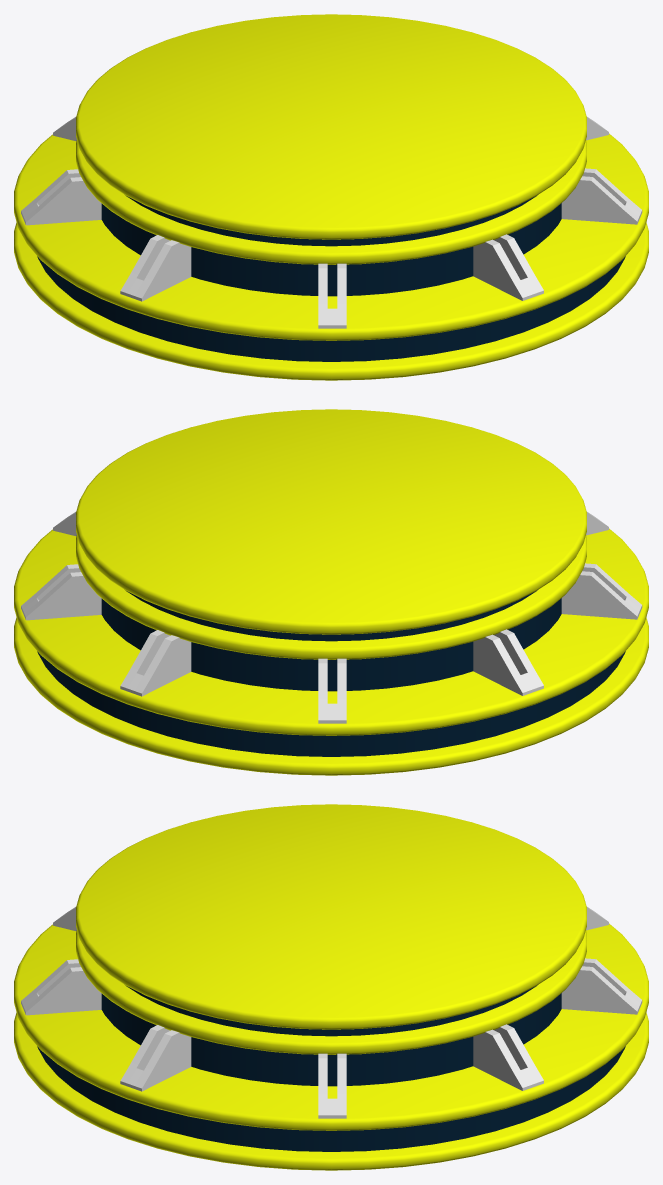
File: platform3.fbx
3 renders of one model, top to bottom at view 1: azimuth 30°, elevation 25°; view 2: azimuth 150°, elevation 25°; view 3: azimuth 270°, elevation 25°, orthographic.
Parts seen in each view (by area): view 1: Cylinder003, Cylinder015, Cylinder016, Cylinder017, Cylinder009, Cylinder014, Line019, Line017, Line016, Line020, Cylinder002, Line018; view 2: Cylinder003, Cylinder015, Cylinder016, Cylinder017, Cylinder009, Cylinder014, Line022, Line020, Line019, Line023, Cylinder002, Line021; view 3: Cylinder003, Cylinder015, Cylinder016, Cylinder017, Cylinder009, Cylinder014, Line016, Line023, Line017, Line022, Cylinder002, Line012.
Part boxes in pixels (x1,y1,x2,y2): Cylinder003: [76, 14, 586, 239]; Cylinder015: [14, 133, 648, 340]; Cylinder016: [14, 222, 648, 380]; Cylinder017: [37, 256, 625, 361]; Cylinder009: [76, 140, 586, 264]; Cylinder014: [101, 203, 561, 296]; Line019: [120, 235, 191, 301]; Line017: [473, 234, 543, 300]; Line016: [561, 168, 642, 224]; Line020: [21, 169, 101, 225]; Cylinder002: [125, 195, 537, 246]; Line018: [318, 263, 346, 328]; Cylinder003: [76, 409, 586, 634]; Cylinder015: [14, 528, 648, 735]; Cylinder016: [14, 617, 648, 775]; Cylinder017: [37, 651, 625, 756]; Cylinder009: [76, 535, 586, 659]; Cylinder014: [101, 598, 561, 691]; Line022: [120, 630, 191, 696]; Line020: [473, 629, 543, 695]; Line019: [561, 563, 642, 619]; Line023: [21, 564, 101, 620]; Cylinder002: [125, 590, 537, 641]; Line021: [318, 658, 346, 723]; Cylinder003: [76, 804, 586, 1029]; Cylinder015: [14, 923, 648, 1130]; Cylinder016: [14, 1012, 648, 1170]; Cylinder017: [37, 1046, 625, 1151]; Cylinder009: [76, 930, 586, 1054]; Cylinder014: [101, 993, 561, 1086]; Line016: [120, 1025, 191, 1091]; Line023: [473, 1024, 543, 1090]; Line017: [21, 959, 101, 1015]; Line022: [561, 958, 642, 1014]; Cylinder002: [125, 985, 537, 1036]; Line012: [318, 1053, 346, 1118].
Size of the model in its own units: 600 by 132 by 599.
